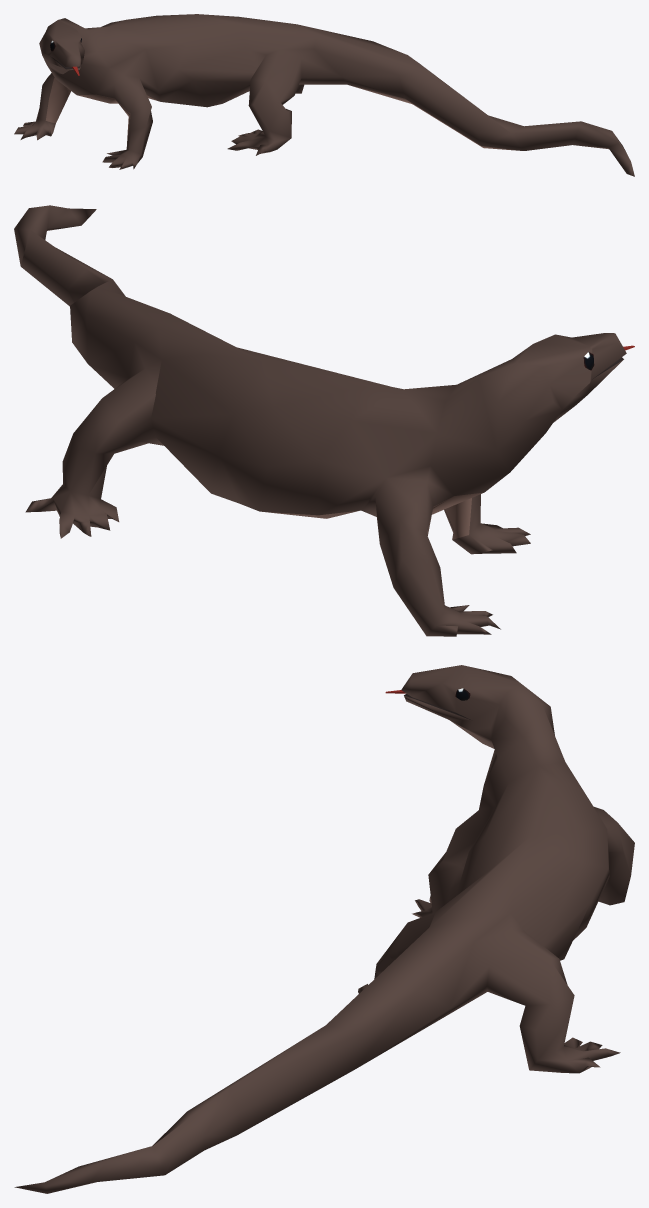
File: MonitorLizard.glb
3 views of the same model, one above another, from view 1: azimuth 30°, elevation 25°; view 2: azimuth 150°, elevation 25°; view 3: azimuth 270°, elevation 25° (orthographic). The views are drawn at different scales.
Visible parts, largest first — view 1: MonitorLizard; view 2: MonitorLizard; view 3: MonitorLizard.
Part boxes in pixels (x1,y1,x2,y2): MonitorLizard: (14,14,634,176); MonitorLizard: (14,205,634,636); MonitorLizard: (14,665,634,1193).
Size of what is drawn, in the model's own units: 1.77 by 0.5226 by 1.4.
Materials: 1 (1 with a texture image).
